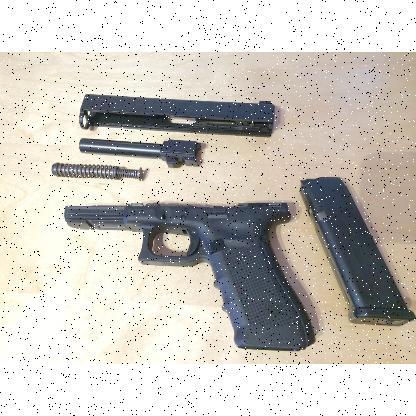gun: (63, 198, 315, 350), (64, 203, 316, 351)
